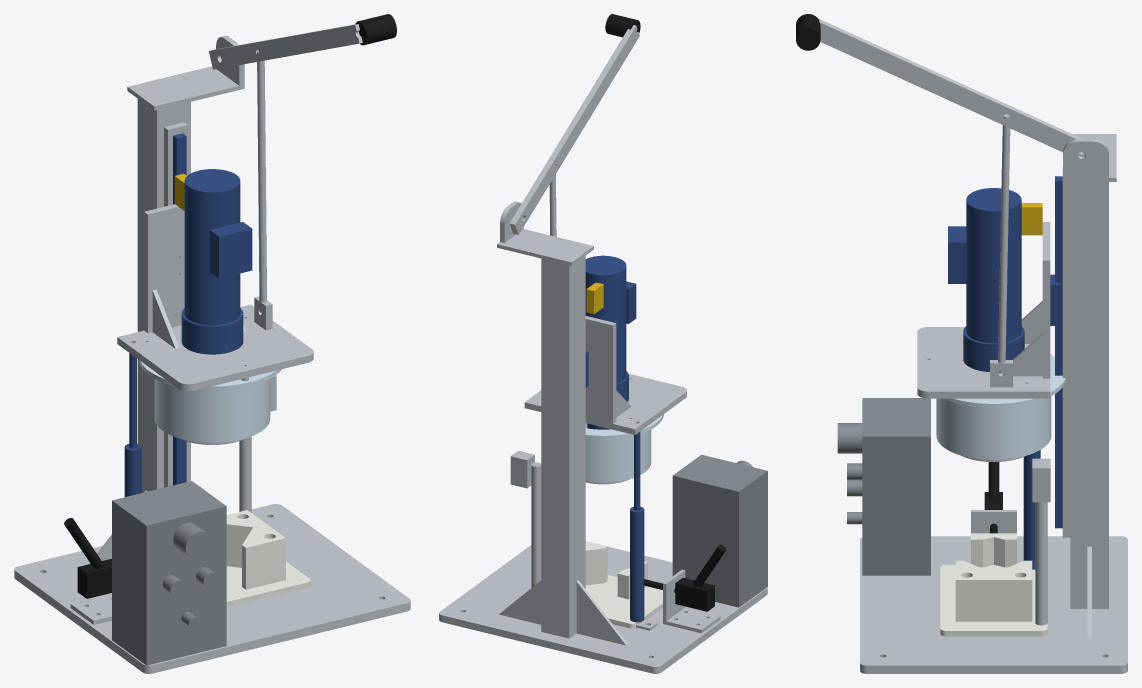
File: P1-412-ASM.glb
3 views of the same model, side by side, from view 1: azimuth 30°, elevation 25°; view 2: azimuth 150°, elevation 25°; view 3: azimuth 270°, elevation 25° (orthographic). The views are drawn at different scales.
Parts seen in each view (by area): view 1: P1-451, P1-412-101, P1-422, P1-412-202, P1-412-102, P1-412-303, P1-412-201, P1-412-402, P1-412-501, P1-424, P1-412-104, P1-412-502 (+7 smaller); view 2: P1-412-102, P1-451, P1-412-101, P1-422, P1-412-501, P1-412-303, P1-412-201, P1-412-202, P1-412-103, P1-424, P1-412-104, P1-412-401 (+8 smaller); view 3: P1-412-101, P1-412-102, P1-451, P1-422, P1-412-303, P1-412-501, P1-412-202, P1-412-402, P1-424, P1-412-106, P1-412-401, P1-412-502 (+12 smaller).
Part boxes in pixels (bbox=[...]): P1-451: bbox=[112, 481, 226, 665]; P1-412-101: bbox=[14, 504, 410, 673]; P1-422: bbox=[181, 169, 252, 354]; P1-412-202: bbox=[117, 304, 313, 391]; P1-412-102: bbox=[137, 99, 190, 492]; P1-412-303: bbox=[139, 360, 281, 442]; P1-412-201: bbox=[144, 204, 184, 333]; P1-412-402: bbox=[226, 510, 285, 589]; P1-412-501: bbox=[209, 24, 362, 69]; P1-424: bbox=[124, 133, 186, 496]; P1-412-104: bbox=[127, 66, 244, 110]; P1-412-502: bbox=[257, 50, 266, 312]; P1-412-102: bbox=[541, 256, 585, 638]; P1-451: bbox=[672, 454, 767, 607]; P1-412-101: bbox=[439, 545, 767, 673]; P1-422: bbox=[585, 255, 636, 401]; P1-412-501: bbox=[509, 25, 639, 234]; P1-412-303: bbox=[585, 414, 663, 482]; P1-412-201: bbox=[585, 316, 616, 423]; P1-412-202: bbox=[524, 374, 686, 434]; P1-412-103: bbox=[499, 580, 627, 645]; P1-424: bbox=[585, 351, 644, 622]; P1-412-104: bbox=[497, 229, 593, 265]; P1-412-401: bbox=[585, 575, 662, 628]; P1-412-101: bbox=[860, 536, 1127, 673]; P1-412-102: bbox=[1070, 182, 1108, 608]; P1-451: bbox=[837, 398, 930, 575]; P1-422: bbox=[948, 188, 1024, 371]; P1-412-303: bbox=[936, 354, 1065, 459]; P1-412-501: bbox=[818, 18, 1085, 156]; P1-412-202: bbox=[917, 327, 1050, 398]; P1-412-402: bbox=[955, 560, 1032, 621]; P1-424: bbox=[1023, 176, 1062, 569]; P1-412-106: bbox=[1062, 167, 1070, 537]; P1-412-401: bbox=[940, 564, 1047, 636]; P1-412-502: bbox=[998, 114, 1010, 373].
Size of the model in its own units: 421 by 896 by 433.
